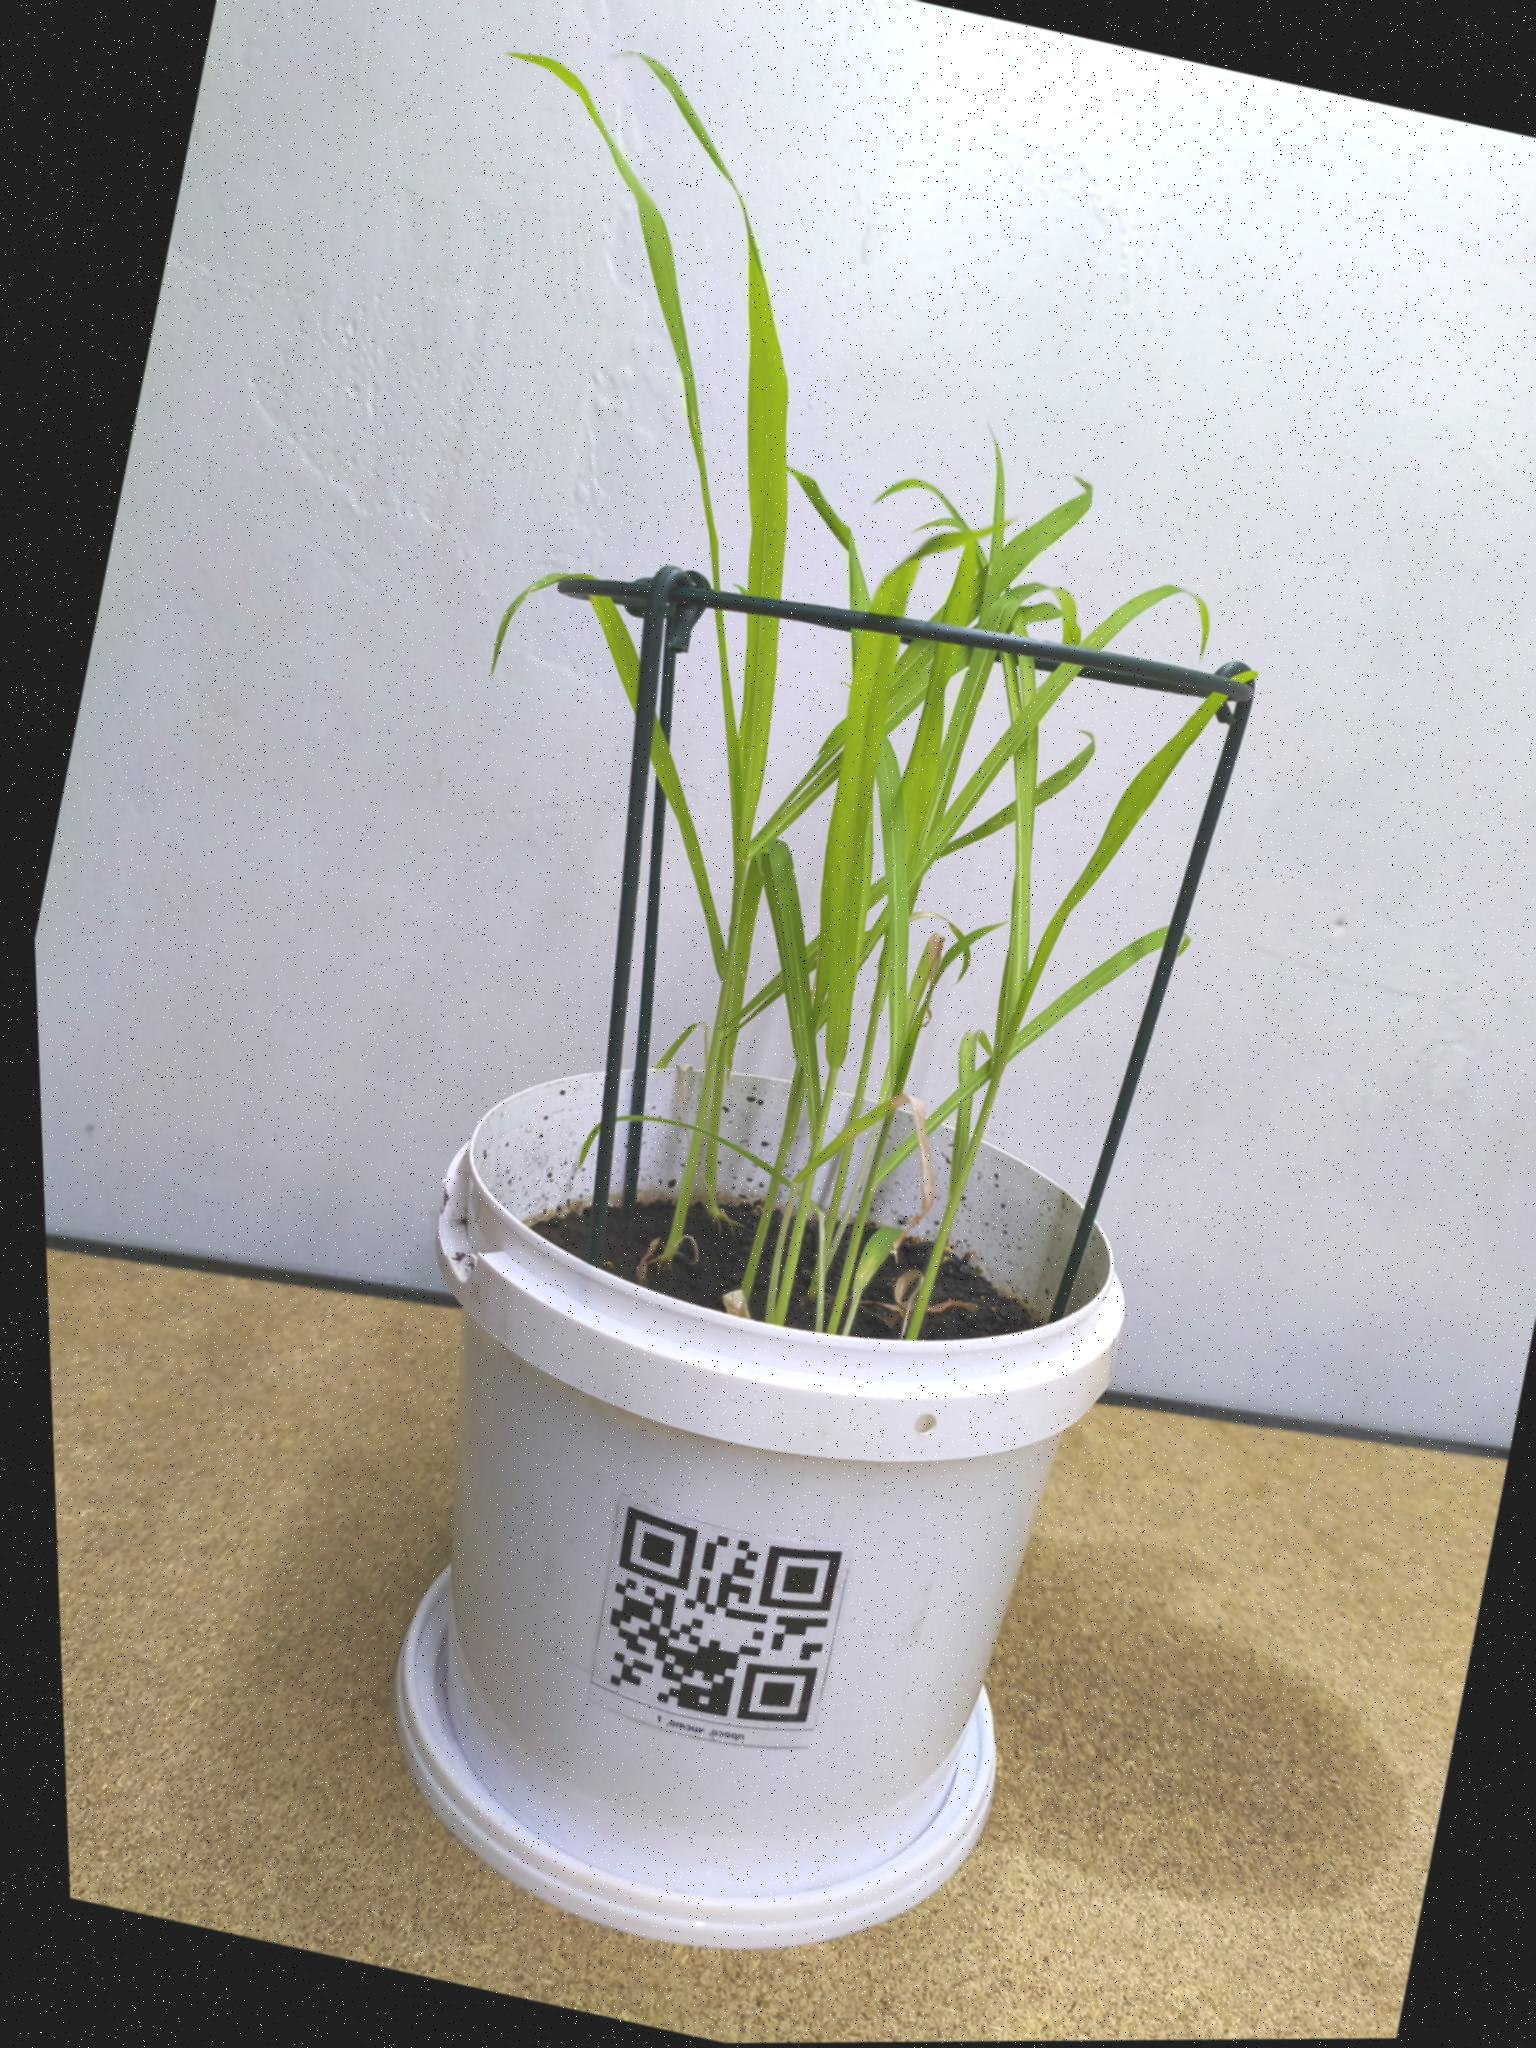container: (397, 1071, 1123, 1943)
stem: (904, 1080, 1000, 1340), (803, 1014, 879, 1300), (657, 987, 731, 1261), (770, 1068, 839, 1326), (824, 1118, 894, 1332), (737, 1087, 803, 1303), (700, 1005, 729, 1214)
